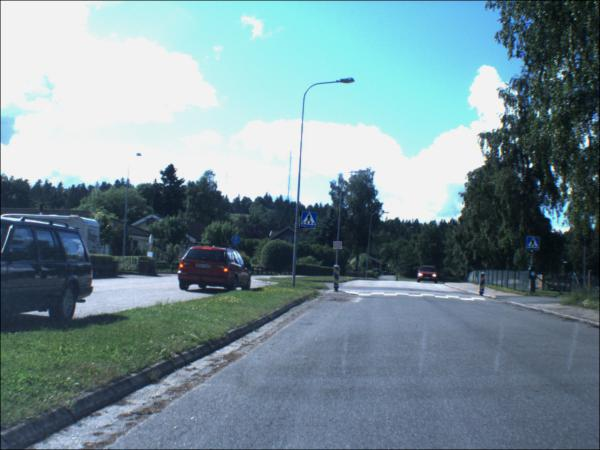NO_PARKING: (333, 242, 343, 251)
PEDESTRIAN_CROSSING: (300, 213, 318, 231), (526, 238, 540, 252)
